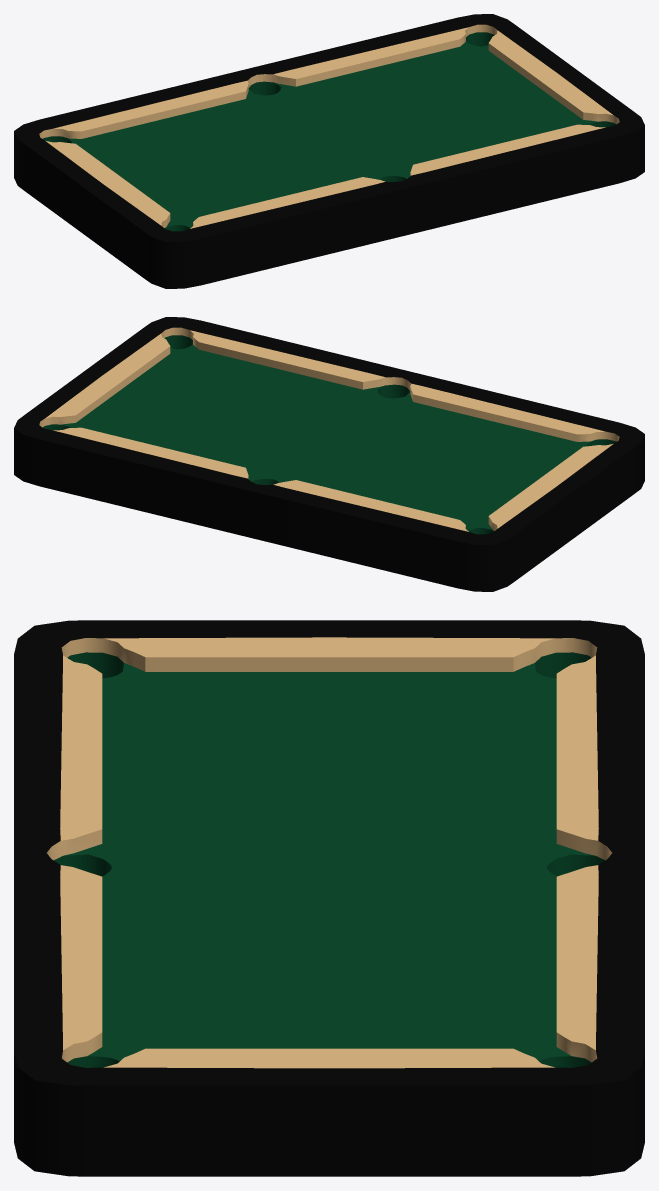
Rendered from Billiard_Table.fbx.
3 renders of one model, top to bottom at view 1: azimuth 30°, elevation 25°; view 2: azimuth 150°, elevation 25°; view 3: azimuth 270°, elevation 25°, orthographic. The views are drawn at different scales.
Parts seen in each view (by area): view 1: Billiard_Table; view 2: Billiard_Table; view 3: Billiard_Table.
Part boxes in pixels (bbox=[...]): Billiard_Table: bbox=[14, 14, 644, 288]; Billiard_Table: bbox=[14, 317, 644, 591]; Billiard_Table: bbox=[14, 620, 644, 1176].
Bounding box in the file's own units: 455 × 41.59 × 261.
